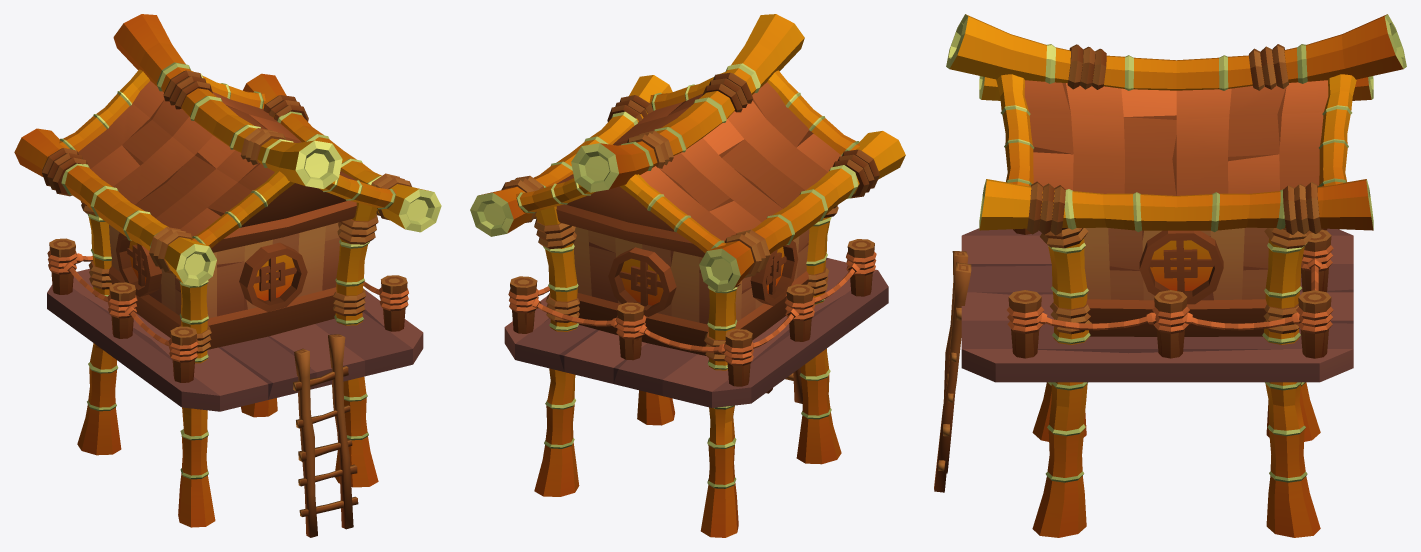
The model's file is fishing_cabin.glb.
3 renders of one model, left to right at view 1: azimuth 30°, elevation 25°; view 2: azimuth 150°, elevation 25°; view 3: azimuth 270°, elevation 25°, orthographic. The views are drawn at different scales.
Parts seen in each view (by area): view 1: fishing_cabin; view 2: fishing_cabin; view 3: fishing_cabin.
Part boxes in pixels (bbox=[...]): fishing_cabin: bbox=[14, 14, 441, 537]; fishing_cabin: bbox=[470, 14, 905, 537]; fishing_cabin: bbox=[934, 14, 1406, 537].
Bounding box in the file's own units: 2.41 × 3.34 × 3.09.
2 materials, 2 textured.
